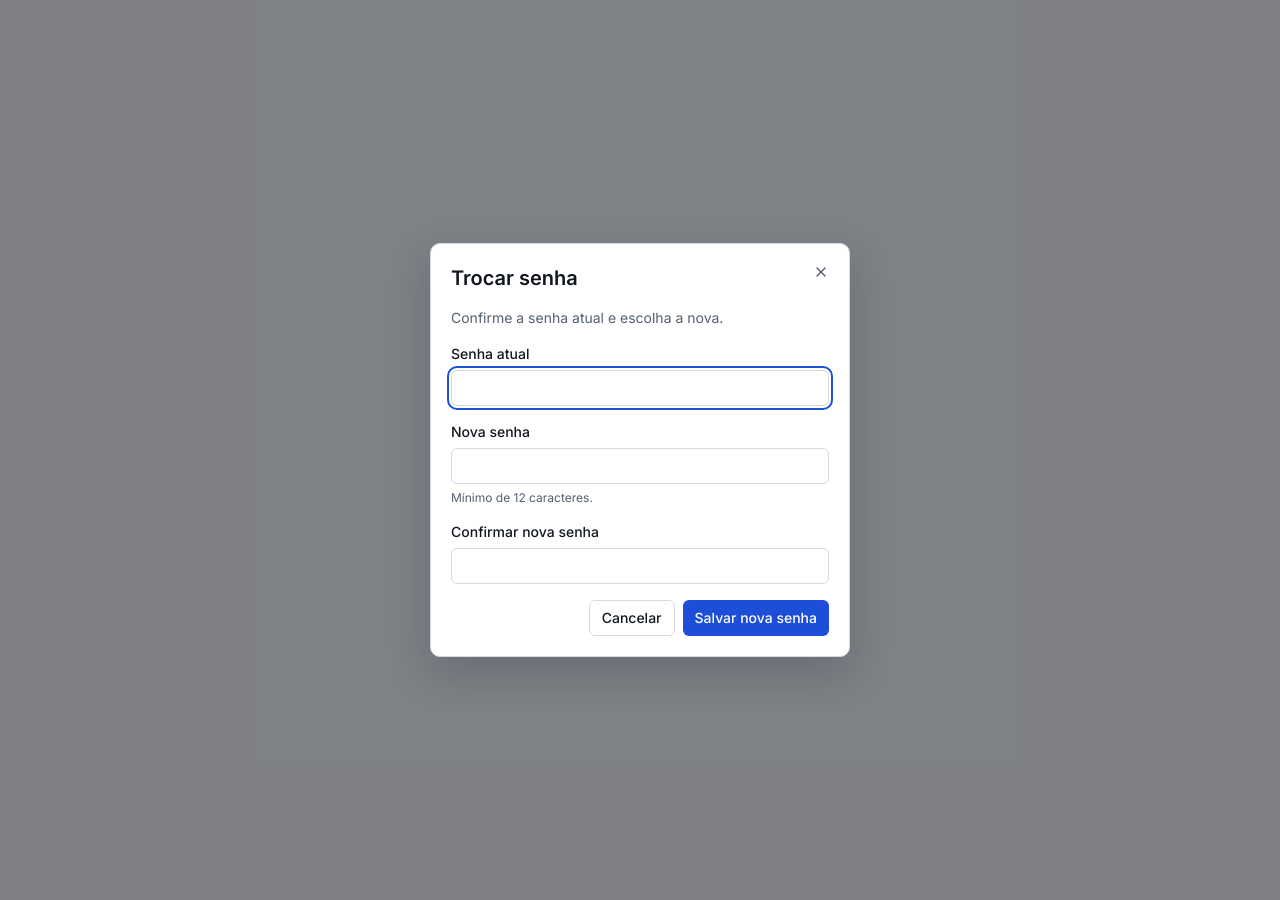
Test: ChangePasswordDialog › mostra a mensagem de senha atual incorreta vinda da API
The width and height of the screenshot is (1280, 900).
Type "senha-errada" into the password field labelled "Senha atual" at (640,388), box [451,370,829,406]
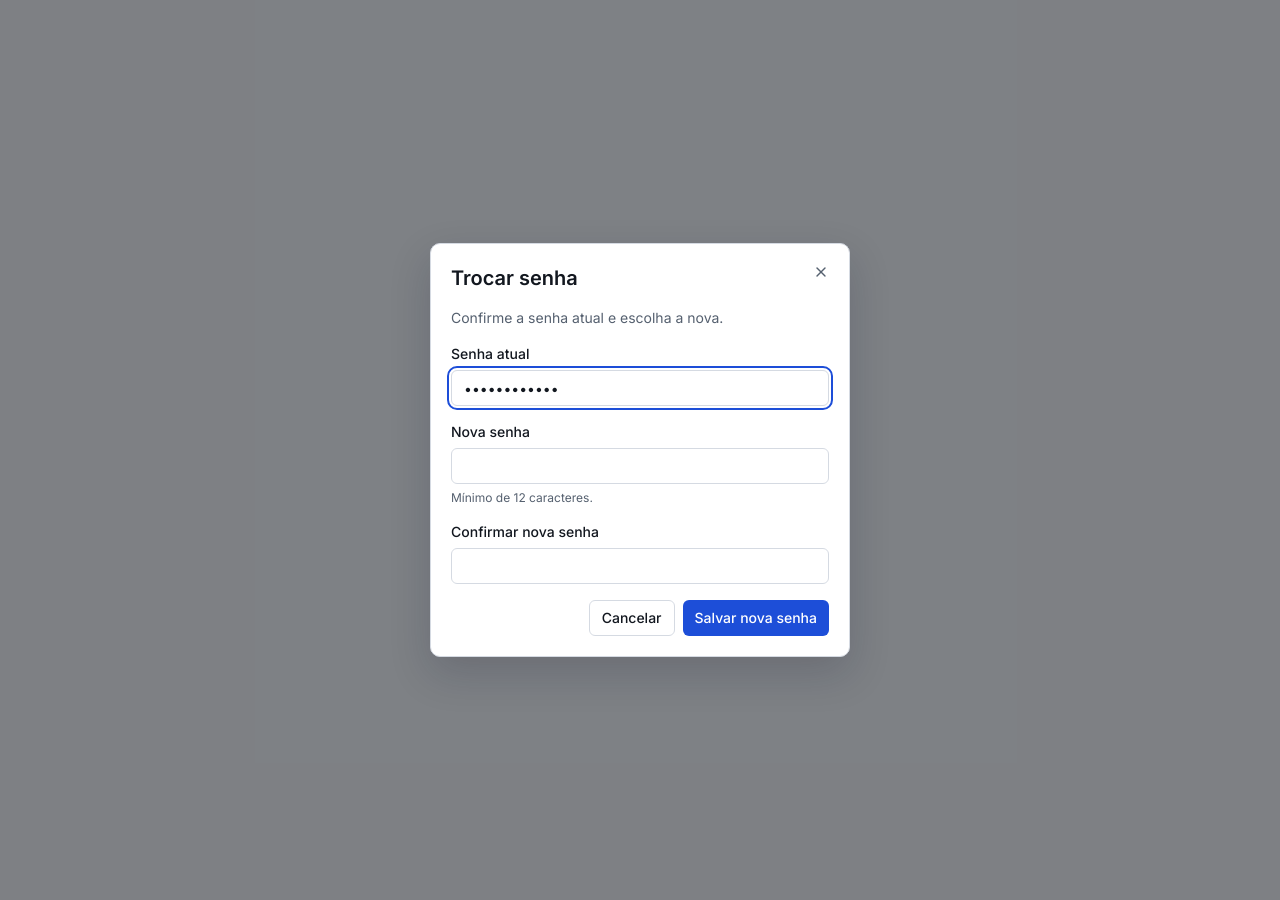
Type "senha-nova-2026" into the password field labelled "Nova senha" at (640,466), box [451,448,829,484]
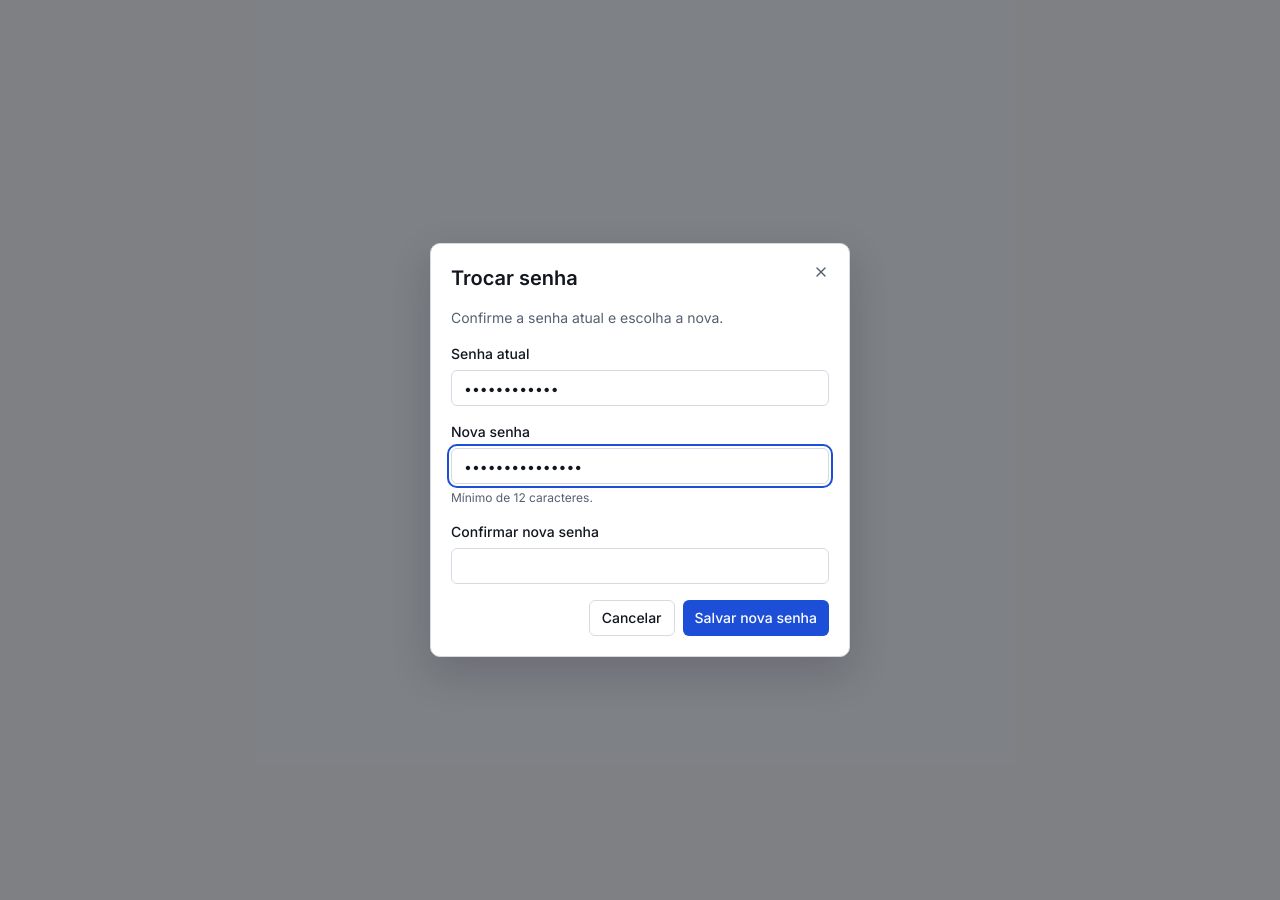
Type "senha-nova-2026" into the password field labelled "Confirmar nova senha" at (640,566), box [451,548,829,584]
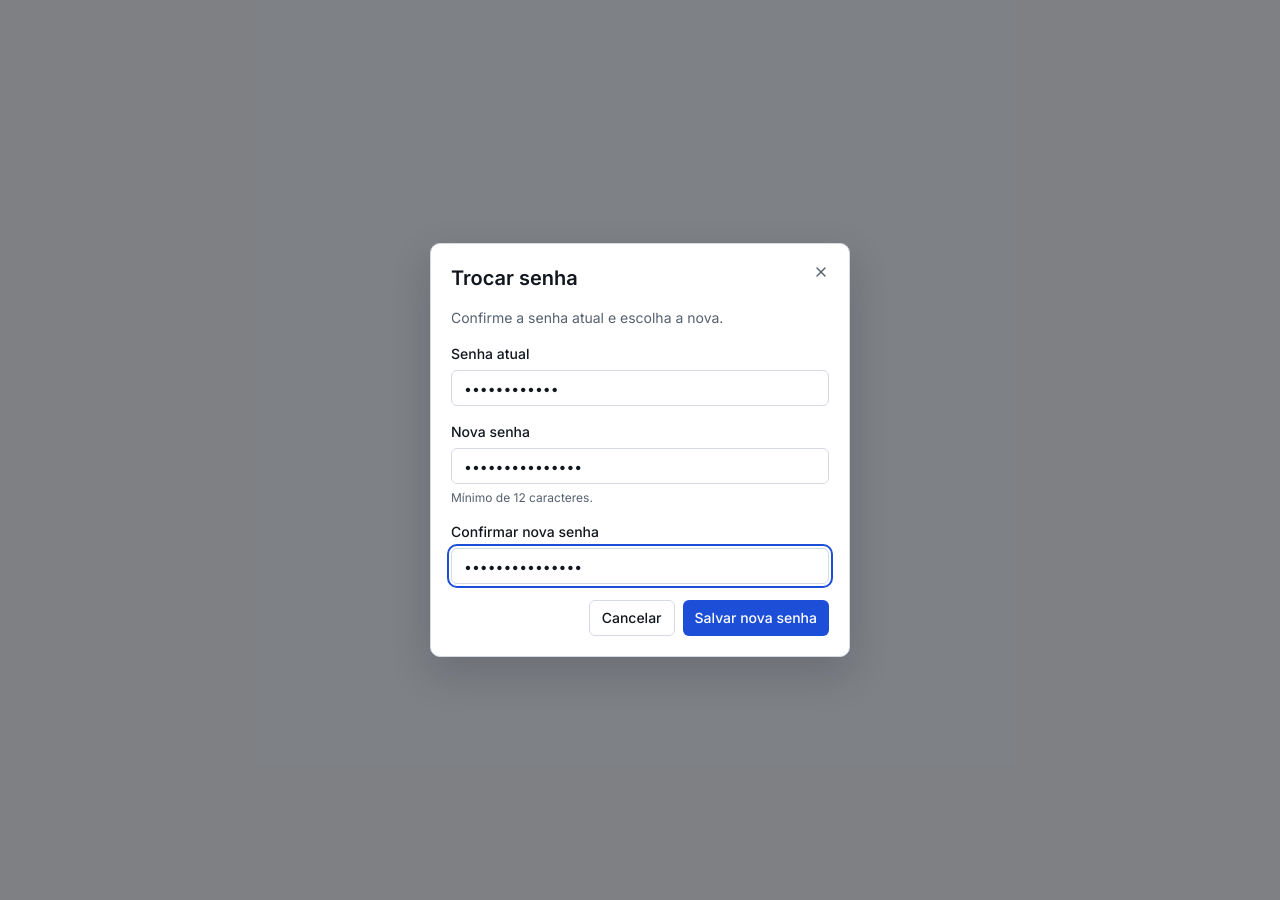
Click the button "Salvar nova senha" at (756,618), box [682,600,829,636]
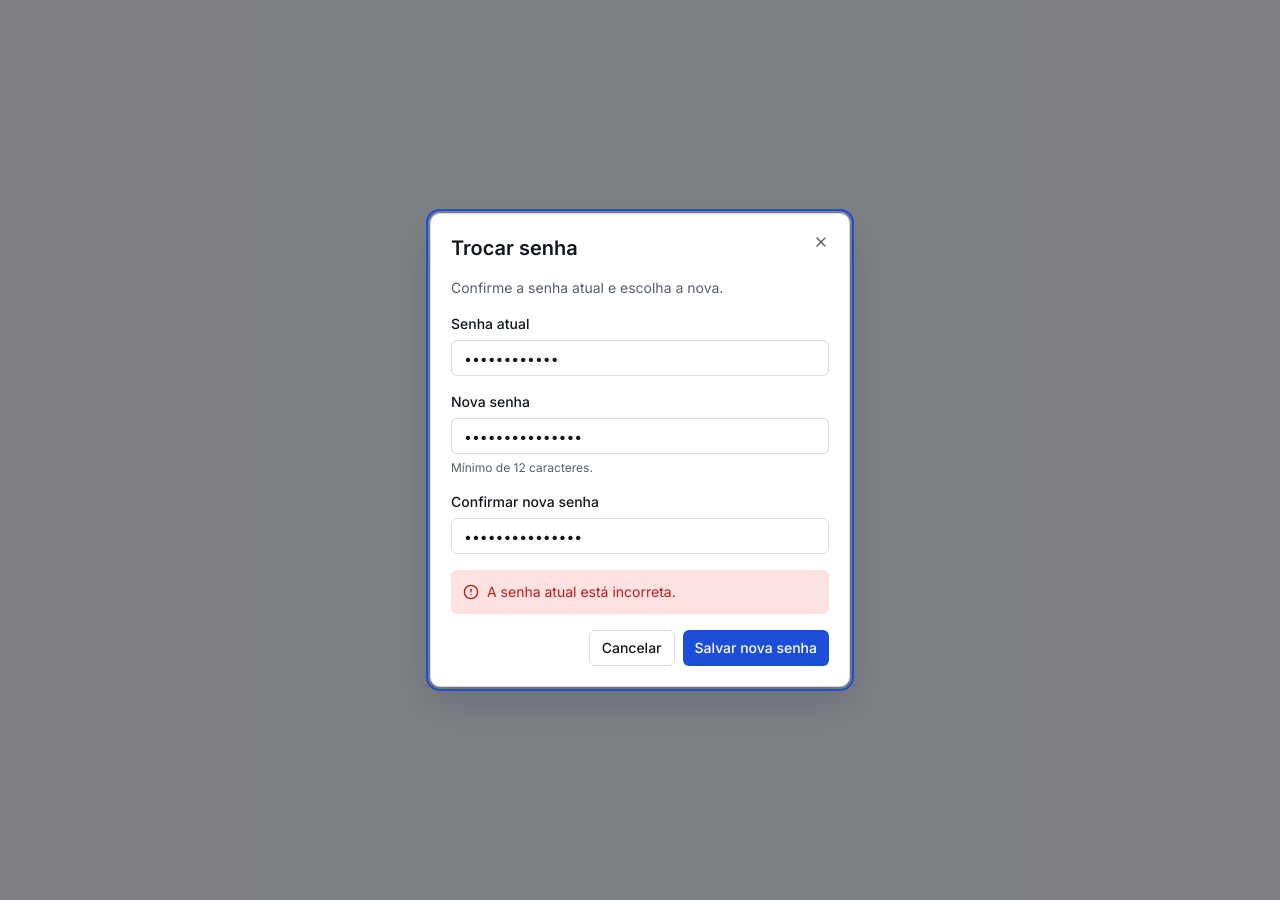
Expected: the message reads "A senha atual está incorreta.", [487,583,676,600]
